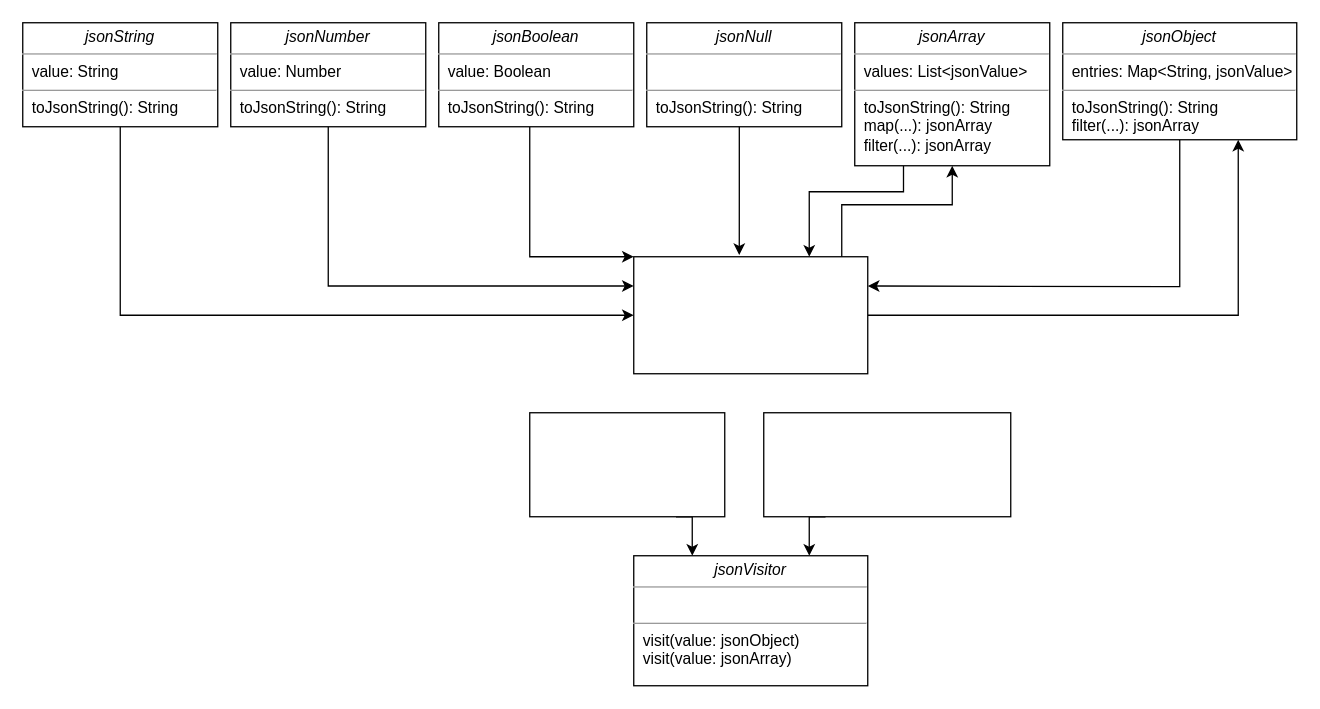
The diagram is 1320 pixels wide and 709 high, and some of its shapes have lost their labels. The centre of each missing label's shape, as x and y in pixels:
jsonObjectKeyValidator valid: Boolean: pixel 626 464
jsonTypeHomogeneityValidator valid: Boolean: pixel 886 464
jsonValue toJsonString(): String accept(visitor: jsonVisitor): Unit: pixel 750 314
